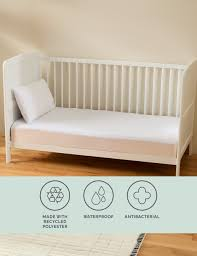bed-matress: (9, 104, 192, 158)
